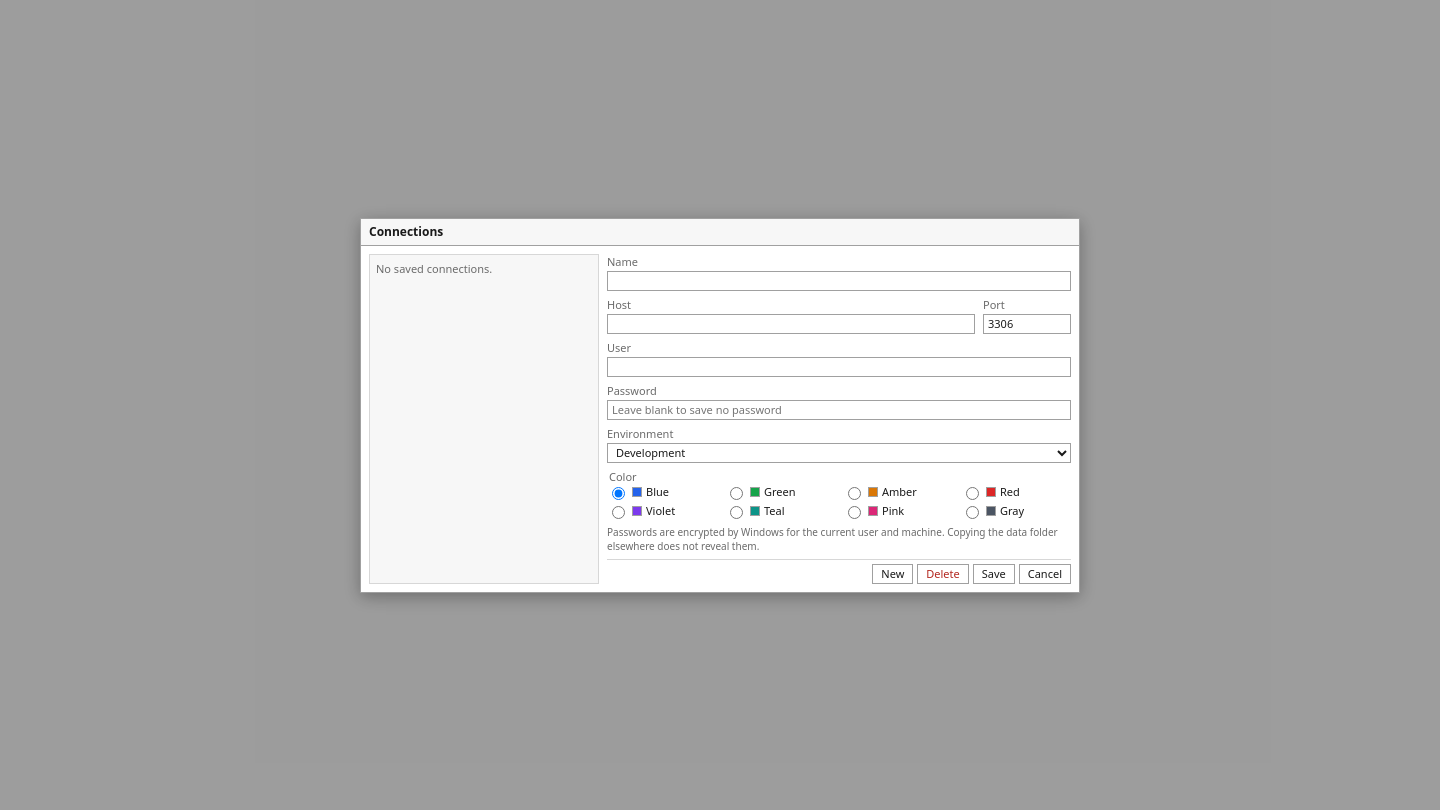
Test case: ConnectionsDialog › creates a profile without an id and selects the saved result
Type "Fresh" into the field with id "connection-name". click: (839, 280)
box: [607,270,1071,290]
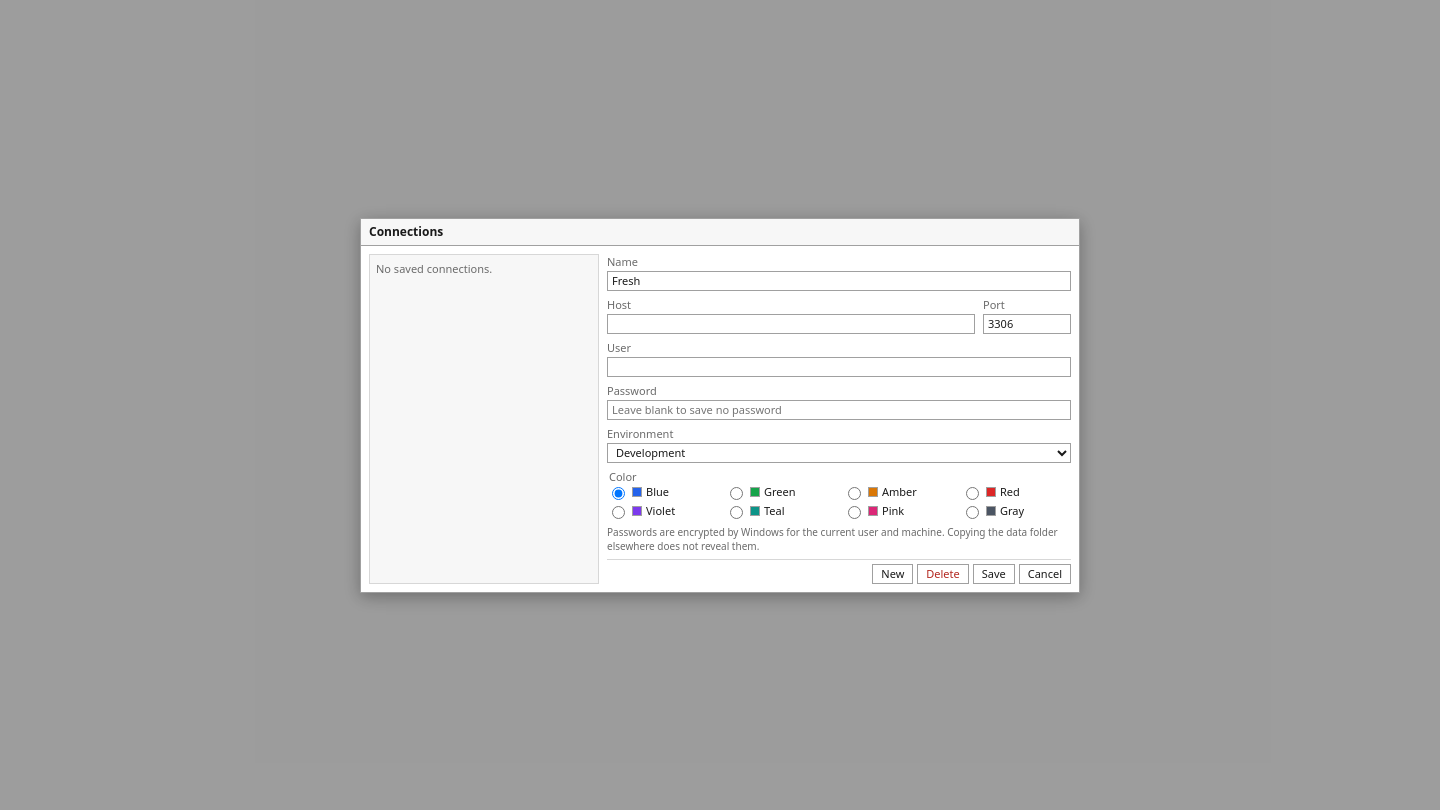
Type "localhost" into the field with id "connection-host". click: (791, 324)
box: [607,314,975,334]
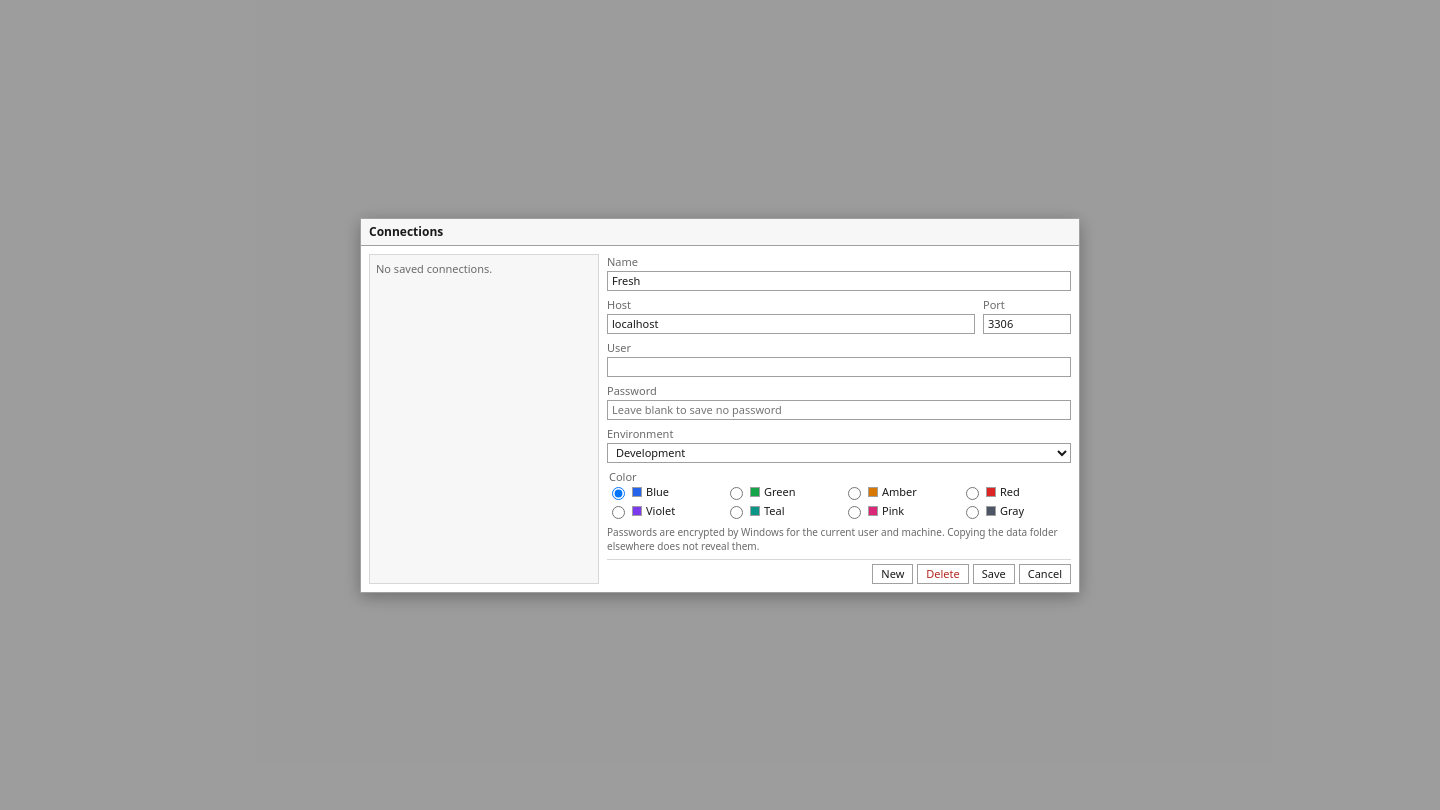
Type "root" into the field with id "connection-user". click: (839, 366)
box: [607,356,1071,376]
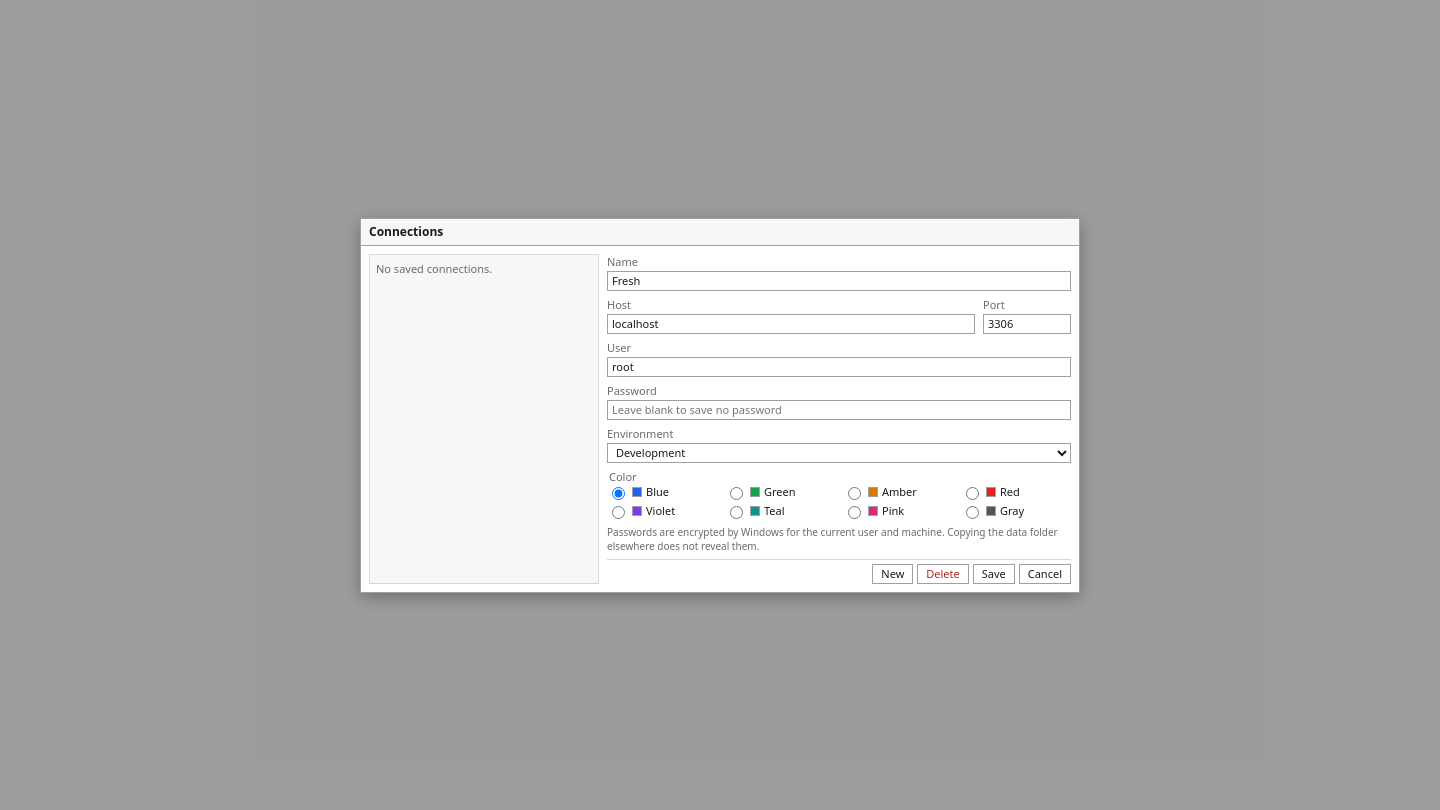
Submit the form, box [607,254,1071,584]
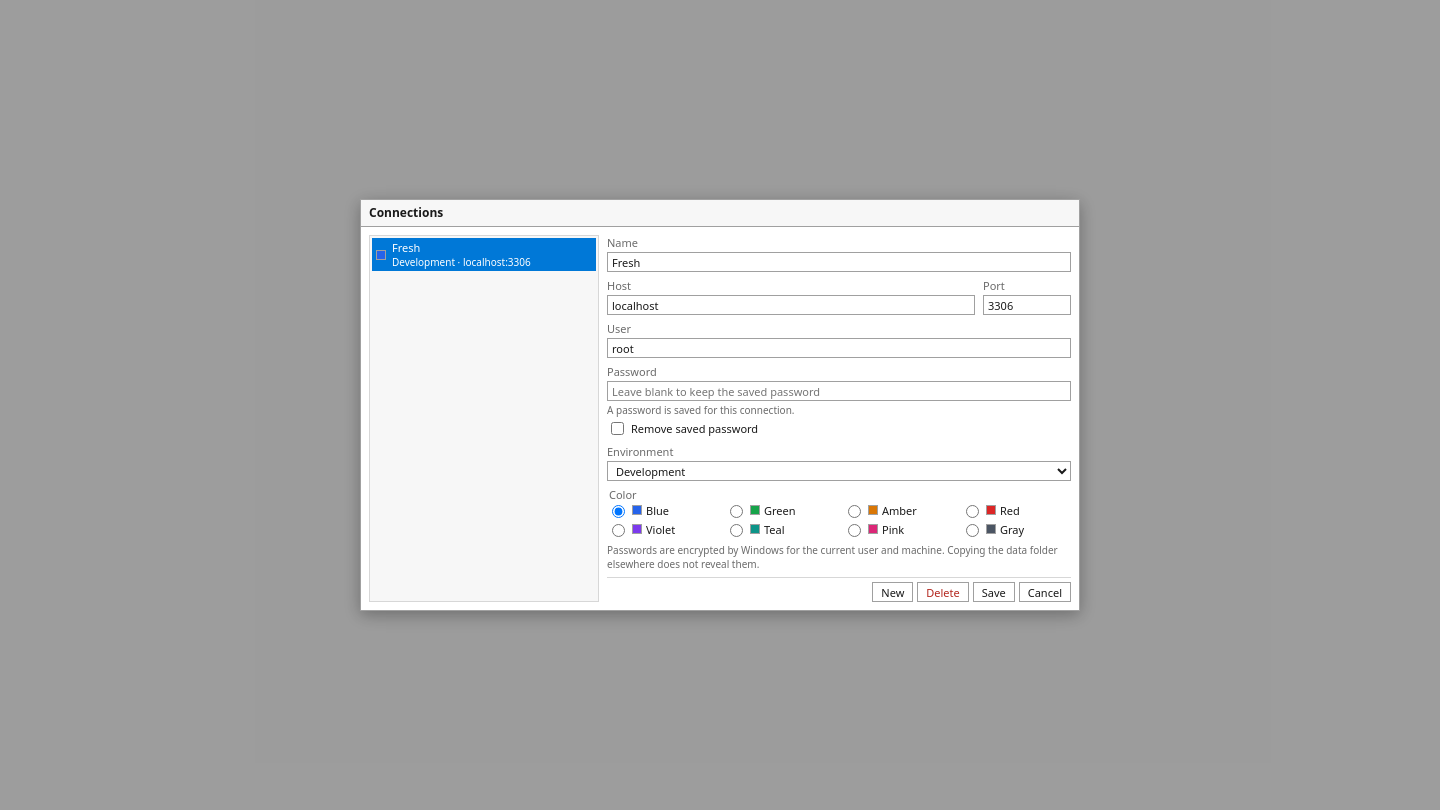
Check: the text "Fresh" is shown, box [392,240,420,255]
Check: the button "Delete" is enabled, box [917,582,969,602]
